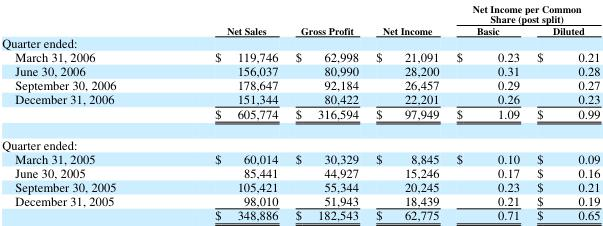table: (1, 1, 599, 223)
table column: (1, 1, 164, 223), (164, 1, 286, 223), (366, 1, 447, 223), (286, 1, 366, 223), (447, 1, 527, 223), (527, 1, 599, 223)
table column header: (1, 1, 599, 35)
table projected row header: (1, 128, 599, 150), (1, 35, 599, 49)
table row: (1, 1, 599, 24), (1, 105, 599, 128), (1, 128, 599, 150), (1, 207, 599, 223), (1, 192, 599, 207), (1, 35, 599, 49), (1, 49, 599, 63), (1, 63, 599, 77), (1, 77, 599, 91), (1, 91, 599, 105), (1, 150, 599, 164), (1, 164, 599, 178), (1, 178, 599, 192), (1, 24, 599, 35)
table spanning cell: (164, 1, 286, 35), (447, 1, 599, 24), (366, 1, 447, 35), (286, 1, 366, 35)
